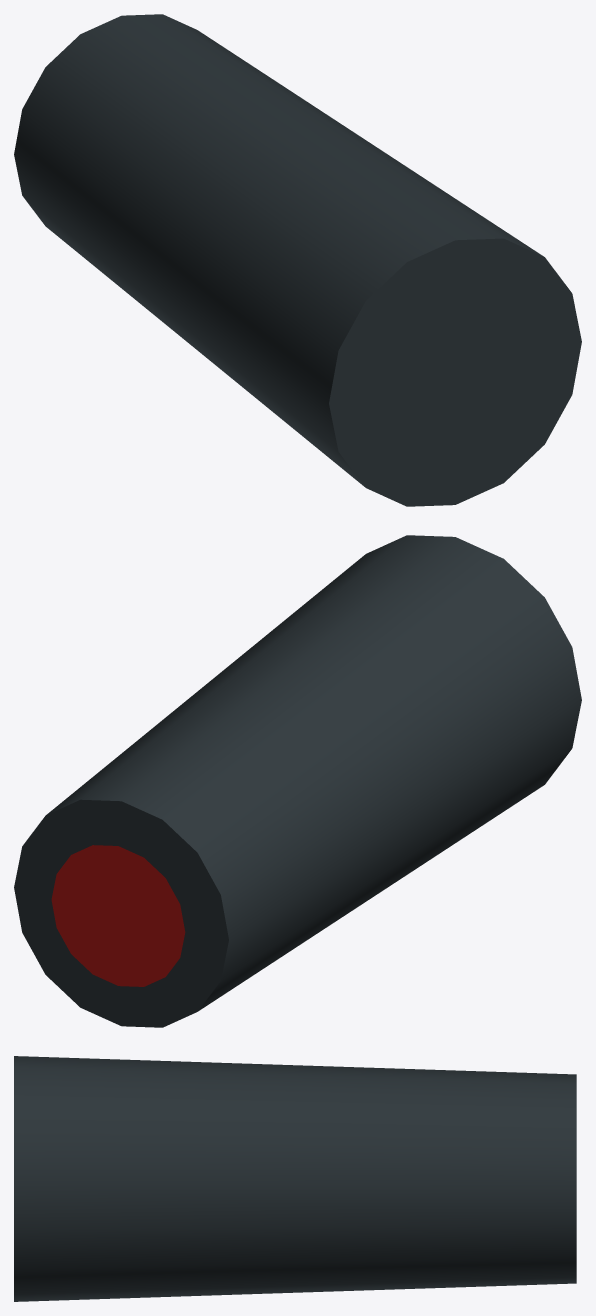
File: small-laser-round.glb
The picture shows the model from 3 angles, top to bottom: view 1: azimuth 30°, elevation 25°; view 2: azimuth 150°, elevation 25°; view 3: azimuth 270°, elevation 25°; orthographic projection. The views are drawn at different scales.
Visible parts, largest first — view 1: mount; view 2: mount; view 3: mount.
Boxes of the visible parts, <box> form: mount: <box>14,14,581,506</box>; mount: <box>14,535,581,1027</box>; mount: <box>14,1056,576,1301</box>.
Size of the model in its own units: 1.4 by 1.4 by 3.23.
